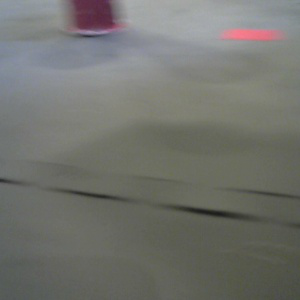middle: (60, 1, 126, 34)
